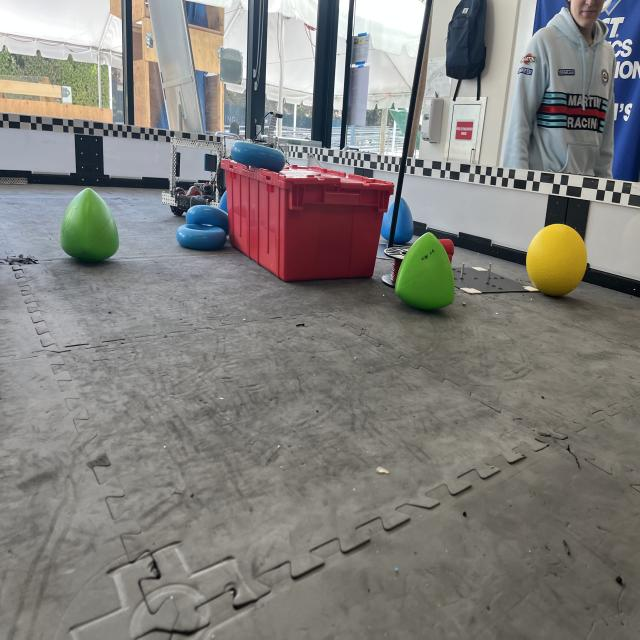Blue-Ring: (231, 140, 285, 172), (176, 223, 226, 250), (186, 205, 229, 235)
